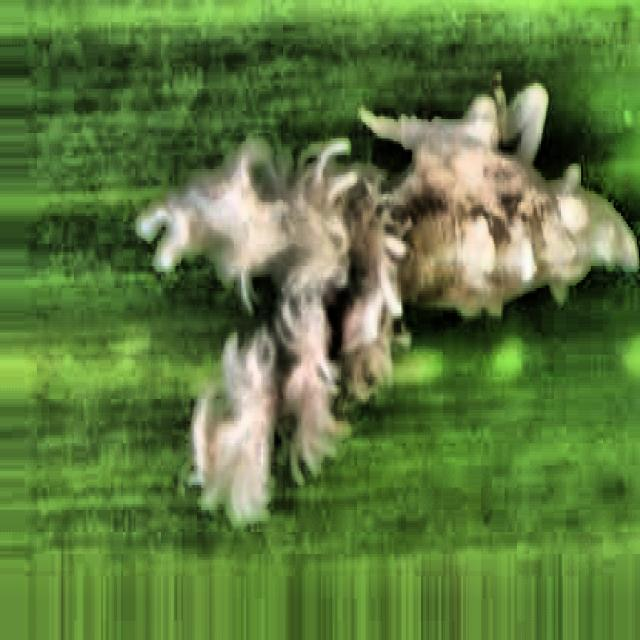Pyrilla-perpusilla: (107, 0, 640, 579)
